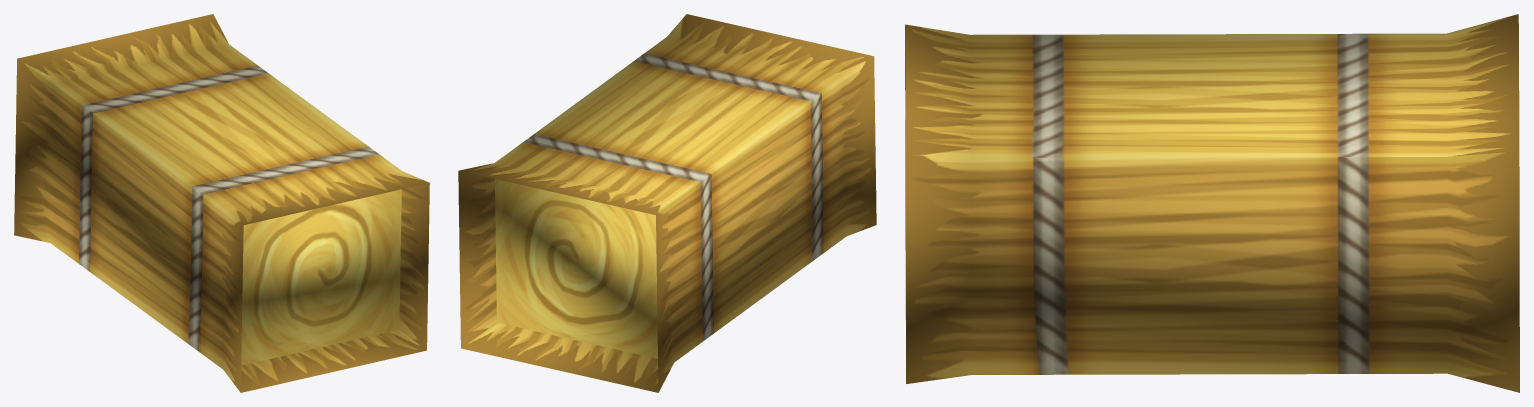
The model's file is hay_stack_01.fbx.
3 views of the same model, side by side, from view 1: azimuth 30°, elevation 25°; view 2: azimuth 150°, elevation 25°; view 3: azimuth 270°, elevation 25° (orthographic). The views are drawn at different scales.
Visible parts, largest first — view 1: hay_stack_01:Mesh; view 2: hay_stack_01:Mesh; view 3: hay_stack_01:Mesh.
Part boxes in pixels (left/top/right/bottom): hay_stack_01:Mesh: left=14, top=14, right=429, bottom=392; hay_stack_01:Mesh: left=458, top=14, right=876, bottom=392; hay_stack_01:Mesh: left=905, top=14, right=1519, bottom=392.
Bounding box in the file's own units: 1.63 × 1.4 × 3.14.
